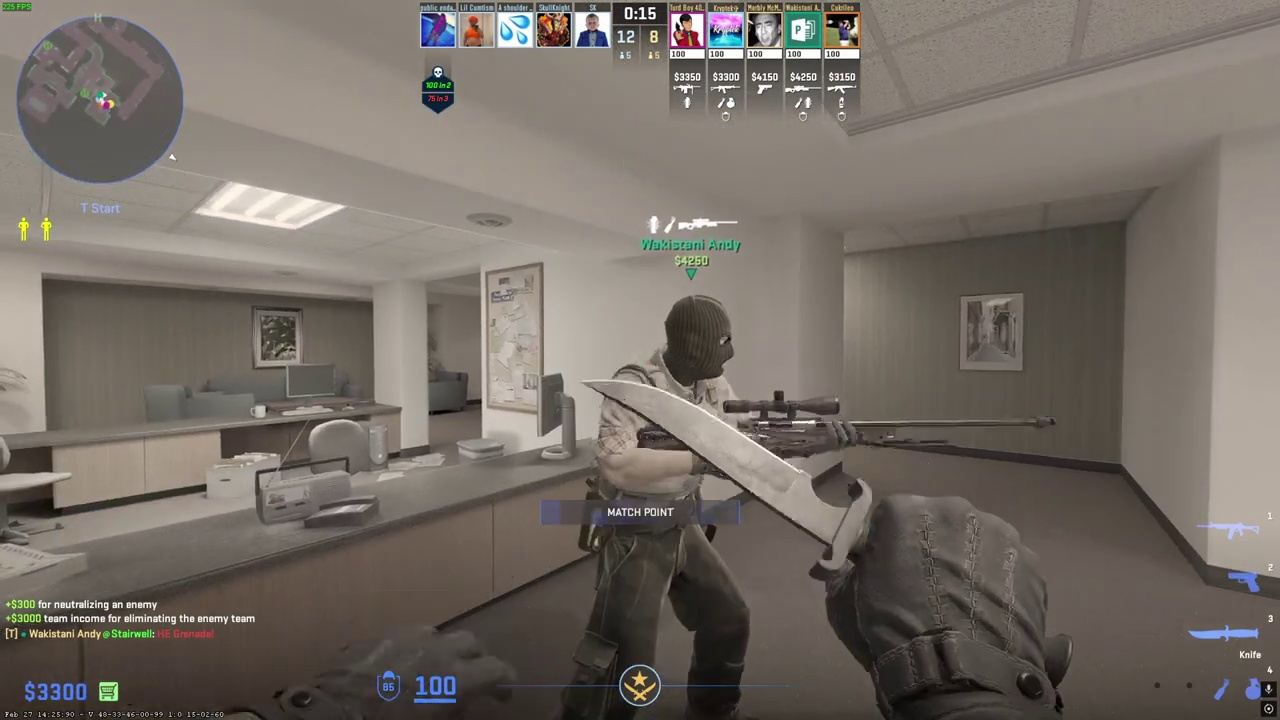Terrorist: (573, 294, 766, 720)
